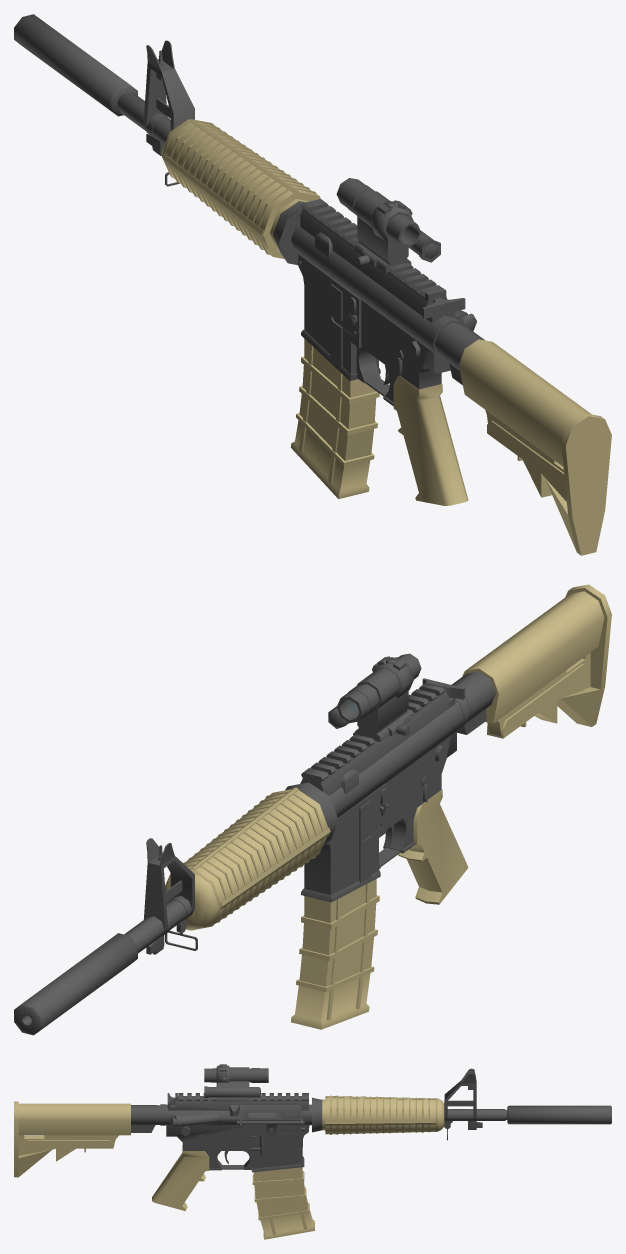
3 views of the same model, one above another, from view 1: azimuth 30°, elevation 25°; view 2: azimuth 150°, elevation 25°; view 3: azimuth 270°, elevation 25° (orthographic). The views are drawn at different scales.
Visible parts, largest first — view 1: Цилиндр.010; view 2: Цилиндр.010; view 3: Цилиндр.010.
Boxes of the visible parts, box(x1,y1,x2,y2) form: Цилиндр.010: box(14, 14, 611, 555); Цилиндр.010: box(14, 584, 611, 1035); Цилиндр.010: box(14, 1064, 611, 1239).
Bounding box in the file's own units: 1.14 × 4.79 × 15.23.
